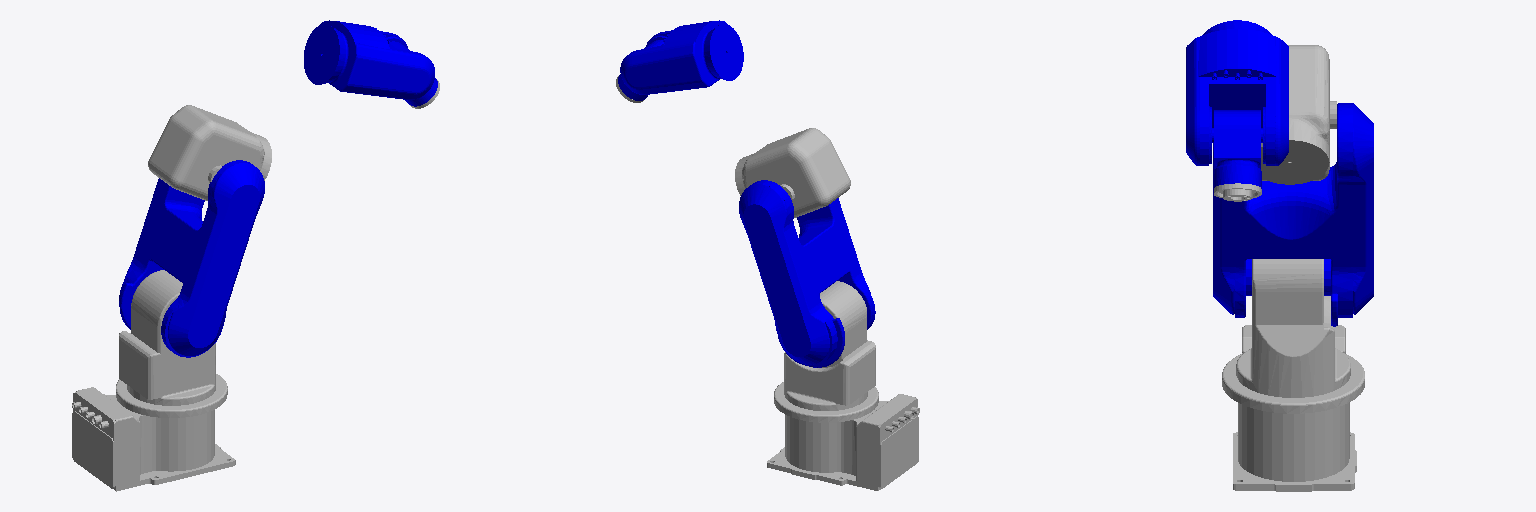
robot.urdf — MOTOMAN_UPJ.URDF:
<?xml version="1.0" encoding="utf-8"?>
<!-- This URDF was automatically created by SolidWorks to URDF Exporter! Originally created by [author] ([email redacted]) 
     Commit Version: 1.5.0-0-g9aa0fdb  Build Version: 1.5.7004.21443
     For more information, please see http://wiki.ros.org/sw_urdf_exporter -->
<robot
  name="MOTOMAN_UPJ.URDF">
  <link
    name="base_link">
    <inertial>
      <origin
        xyz="-0.00044445 -0.036253 0.0076717"
        rpy="0 0 0" />
      <mass
        value="4.0409" />
      <inertia
        ixx="0.012287"
        ixy="0.00083352"
        ixz="6.0969E-06"
        iyy="0.023976"
        iyz="-1.038E-05"
        izz="0.023287" />
    </inertial>
    <visual>
      <origin
        xyz="0 0 0"
        rpy="0 0 0" />
      <geometry>
        <mesh
          filename="package://vis_lecture/MOTOMAN_UPJ.URDF/meshes/base_link.STL" />
      </geometry>
      <material
        name="">
        <color
          rgba="0.75294 0.75294 0.75294 1" />
      </material>
    </visual>
    <collision>
      <origin
        xyz="0 0 0"
        rpy="0 0 0" />
      <geometry>
        <mesh
          filename="package://vis_lecture/MOTOMAN_UPJ.URDF/meshes/base_link.STL" />
      </geometry>
    </collision>
  </link>
  <link
    name="rotary_head">
    <inertial>
      <origin
        xyz="-0.0019906 0.091523 0.0031222"
        rpy="0 0 0" />
      <mass
        value="3.4064" />
      <inertia
        ixx="0.01808"
        ixy="-7.2413E-05"
        ixz="-2.1162E-05"
        iyy="0.0098752"
        iyz="-0.00068691"
        izz="0.019643" />
    </inertial>
    <visual>
      <origin
      xyz="-0.046649 -0.025684 -0.007692"
      rpy="0 0 0" />
      <geometry>
        <mesh
          filename="package://vis_lecture/MOTOMAN_UPJ.URDF/meshes/rotary_head.STL" />
      </geometry>
      <material
        name="">
        <color
          rgba="0.75294 0.75294 0.75294 1" />
      </material>
    </visual>
    <collision>
      <origin
        xyz="-0.046649 -0.025684 -0.007692"
        rpy="0 0 0" />
      <geometry>
        <mesh
          filename="package://vis_lecture/MOTOMAN_UPJ.URDF/meshes/rotary_head.STL" />
      </geometry>
    </collision>
  </link>
  <joint
    name="rotary_head"
    type="continuous">
    <origin
      xyz="0.046649 -0.007692 0.025684"
      rpy="1.5708 0 0" />
    <parent
      link="base_link" />
    <child
      link="rotary_head" />
    <axis
      xyz="0 1 0" />
    <safety_controller
      k_velocity="0" />
  </joint>
  <link
    name="lower_arm">
    <inertial>
      <origin
        xyz="-0.00047836 0.11708 -0.0041285"
        rpy="0 0 0" />
      <mass
        value="4.1334" />
      <inertia
        ixx="0.043044"
        ixy="8.3436E-05"
        ixz="1.9562E-05"
        iyy="0.011436"
        iyz="-0.00071152"
        izz="0.037002" />
    </inertial>
    <visual>
      <origin
        xyz="-0.046649 -0.193684 -0.007692"
        rpy="0 0 0" />
      <geometry>
        <mesh
          filename="package://vis_lecture/MOTOMAN_UPJ.URDF/meshes/lower_arm.STL" />
      </geometry>
      <material
        name="">
        <color
          rgba="0 0 1 1" />
      </material>
    </visual>
    <collision>
      <origin
        xyz="0 0 0"
        rpy="0 0 0" />
      <geometry>
        <mesh
          filename="package://vis_lecture/MOTOMAN_UPJ.URDF/meshes/lower_arm.STL" />
      </geometry>
    </collision>
  </link>
  <joint
    name="lower_arm"
    type="continuous">
    <origin
      xyz="0 0.168 0"
      rpy="0 0 -0.17433" />
    <parent
      link="rotary_head" />
    <child
      link="lower_arm" />
    <axis
      xyz="0 0 1" />
    <safety_controller
      k_velocity="0" />
  </joint>
  <link
    name="upper_arm">
    <inertial>
      <origin
        xyz="-0.040633 0.27227 0.065032"
        rpy="0 0 0" />
      <mass
        value="2.5359" />
      <inertia
        ixx="0.0061646"
        ixy="-0.00029352"
        ixz="6.8888E-07"
        iyy="0.0085043"
        iyz="1.3502E-06"
        izz="0.0097574" />
    </inertial>
    <visual>
      <origin
        xyz="-0.0742426653426694 -0.431071396551031 -0.0206920000000001"
        rpy="0 0 0.18865" />
      <geometry>
        <mesh
          filename="package://vis_lecture/MOTOMAN_UPJ.URDF/meshes/upper_arm.STL" />
      </geometry>
      <material
        name="">
        <color
          rgba="0.75294 0.75294 0.75294 1" />
      </material>
    </visual>
    <collision>
      <origin
        xyz="0 0 0"
        rpy="0 0 0" />
      <geometry>
        <mesh
          filename="package://vis_lecture/MOTOMAN_UPJ.URDF/meshes/upper_arm.STL" />
      </geometry>
    </collision>
  </link>
  <joint
    name="upper_arm"
    type="continuous">
    <origin
      xyz="0.0742426653426694 0.238387396551031 0.0130000000000001"
      rpy="0 0 -0.18865" />
    <parent
      link="lower_arm" />
    <child
      link="upper_arm" />
    <axis
      xyz="0 0 1" />
    <safety_controller
      k_velocity="0" />
  </joint>
  <link
    name="forearm_twisting">
    <inertial>
      <origin
        xyz="0.062471 0.049493 0.052"
        rpy="0 0 0" />
      <mass
        value="1.9049" />
      <inertia
        ixx="0.0027746"
        ixy="6.0048E-05"
        ixz="-1.2843E-08"
        iyy="0.0062337"
        iyz="-5.1563E-09"
        izz="0.006131" />
    </inertial>
    <visual>
      <origin
        xyz="0 0 0"
        rpy="0 0 0" />
      <geometry>
        <mesh
          filename="package://vis_lecture/MOTOMAN_UPJ.URDF/meshes/forearm_twisting.STL" />
      </geometry>
      <material
        name="">
        <color
          rgba="0 0 1 1" />
      </material>
    </visual>
    <collision>
      <origin
        xyz="0 0 0"
        rpy="0 0 0" />
      <geometry>
        <mesh
          filename="package://vis_lecture/MOTOMAN_UPJ.URDF/meshes/forearm_twisting.STL" />
      </geometry>
    </collision>
  </link>
  <joint
    name="forearm_twisting"
    type="continuous">
    <origin
      xyz="0.0742426653426694 0.238387396551031 0.0130000000000001"
      rpy="0 0 0" />
    <parent
      link="upper_arm" />
    <child
      link="forearm_twisting" />
    <axis
      xyz="1 0 0" />
    <safety_controller
      k_velocity="0" />
  </joint>

  <link
    name="wrist">
    <inertial>
      <origin
        xyz="0.021009 1.1102E-16 0.035"
        rpy="0 0 0" />
      <mass
        value="0.4363" />
      <inertia
        ixx="0.00029652"
        ixy="0"
        ixz="-6.4641E-20"
        iyy="0.00054116"
        iyz="-6.7178E-21"
        izz="0.00054168" />
    </inertial>
    <visual>
      <origin
        xyz="0 0 0"
        rpy="0 0 0" />
      <geometry>
        <mesh
          filename="package://vis_lecture/MOTOMAN_UPJ.URDF/meshes/wrist.STL" />
      </geometry>
      <material
        name="">
        <color
          rgba="0 0 1 1" />
      </material>
    </visual>
    <collision>
      <origin
        xyz="0 0 0"
        rpy="0 0 0" />
      <geometry>
        <mesh
          filename="package://vis_lecture/MOTOMAN_UPJ.URDF/meshes/wrist.STL" />
      </geometry>
    </collision>
  </link>
  <joint
    name="wrist"
    type="continuous">
    <origin
      xyz="0.147 0.047 0.017"
      rpy="0 0 -0.5313477705325" />
    <parent
      link="forearm_twisting" />
    <child
      link="wrist" />
    <axis
      xyz="0 0 1" />
    <safety_controller
      k_velocity="0" />
  </joint>
  <link
    name="axis6">
    <inertial>
      <origin
        xyz="-0.00048171 9.9825E-05 1.1102E-16"
        rpy="0 0 0" />
      <mass
        value="0.021672" />
      <inertia
        ixx="1.105E-05"
        ixy="-1.0572E-08"
        ixz="-5.2054E-21"
        iyy="5.8193E-06"
        iyz="0"
        izz="5.785E-06" />
    </inertial>
    <visual>
      <origin
        xyz="0 0 0"
        rpy="0 0 0" />
      <geometry>
        <mesh
          filename="package://vis_lecture/MOTOMAN_UPJ.URDF/meshes/axis6.STL" />
      </geometry>
      <material
        name="">
        <color
          rgba="0.75294 0.75294 0.75294 1" />
      </material>
    </visual>
    <collision>
      <origin
        xyz="0 0 0"
        rpy="0 0 0" />
      <geometry>
        <mesh
          filename="package://vis_lecture/MOTOMAN_UPJ.URDF/meshes/axis6.STL" />
      </geometry>
    </collision>
  </link>
  <joint
    name="axis6"
    type="continuous">
    <origin
      xyz="0.0820951659734655 0 0.035"
      rpy="1.54103918016642 0 0" />
    <parent
      link="wrist" />
    <child
      link="axis6" />
    <axis
      xyz="1 0 0" />
    <safety_controller
      k_velocity="0" />
  </joint>
</robot>

--- Render facts (derived) ---
Views: 3 orthographic renders of the robot side by side, from view 1: azimuth 30°, elevation 25°; view 2: azimuth 150°, elevation 25°; view 3: azimuth 270°, elevation 25°.
Model MOTOMAN_UPJ.URDF with 7 links and 6 joints (6 continuous), rooted at base_link, posed every joint at zero.
Links seen in each view (by area): view 1: lower_arm, base_link, rotary_head, forearm_twisting, upper_arm; view 2: lower_arm, base_link, rotary_head, forearm_twisting, upper_arm; view 3: lower_arm, rotary_head, forearm_twisting, base_link, upper_arm, wrist, axis6.
Link boxes in pixels (<box>): lower_arm: <box>119,160,264,357</box>; base_link: <box>72,387,235,491</box>; rotary_head: <box>116,270,227,417</box>; forearm_twisting: <box>304,20,434,99</box>; upper_arm: <box>148,105,271,200</box>; lower_arm: <box>739,180,875,367</box>; base_link: <box>767,394,919,490</box>; rotary_head: <box>774,281,878,422</box>; forearm_twisting: <box>620,20,743,94</box>; upper_arm: <box>735,128,850,217</box>; lower_arm: <box>1213,103,1373,326</box>; rotary_head: <box>1222,259,1364,413</box>; forearm_twisting: <box>1186,20,1288,165</box>; base_link: <box>1233,325,1356,491</box>; upper_arm: <box>1261,45,1336,184</box>; wrist: <box>1212,110,1262,188</box>; axis6: <box>1214,183,1261,201</box>.
Bounding box of the posed robot: 0.6758 × 0.262 × 0.8146 m (x, y, z).
Meshes: 7 distinct files referenced, 7 mesh visuals loaded (7 binary STL).